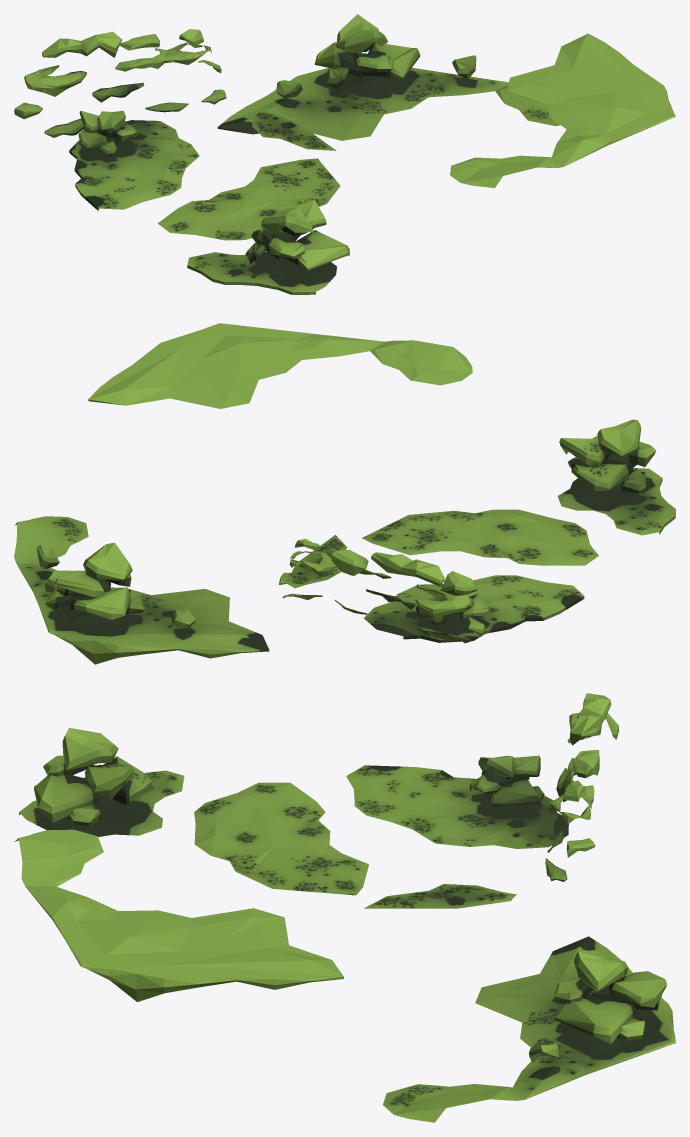
The model's file is Plant_01.FBX.
The picture shows the model from 3 angles, top to bottom: view 1: azimuth 30°, elevation 25°; view 2: azimuth 150°, elevation 25°; view 3: azimuth 270°, elevation 25°; orthographic projection. The views are drawn at different scales.
Parts seen in each view (by area): view 1: Plant_01; view 2: Plant_01; view 3: Plant_01.
Boxes of the visible parts, bbox=[...] form: Plant_01: bbox=[14, 14, 675, 294]; Plant_01: bbox=[14, 323, 675, 664]; Plant_01: bbox=[14, 693, 675, 1122].
Bounding box in the file's own units: 37.61 × 10.05 × 33.86.
